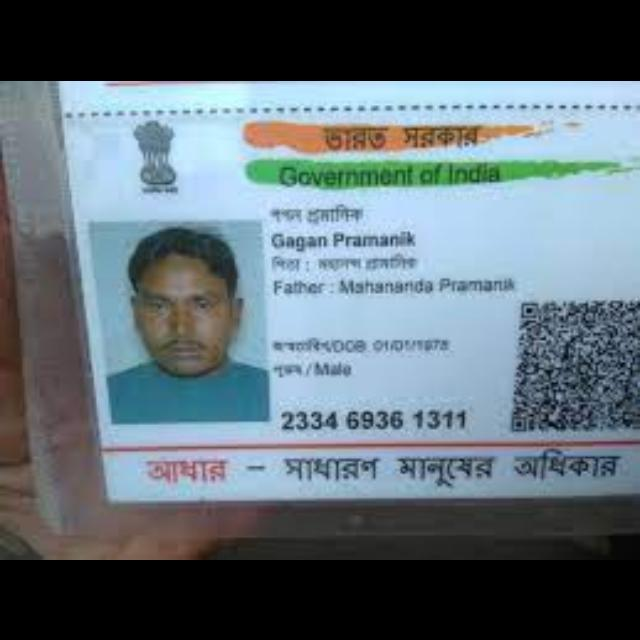aadhaar: (48, 81, 640, 512)
